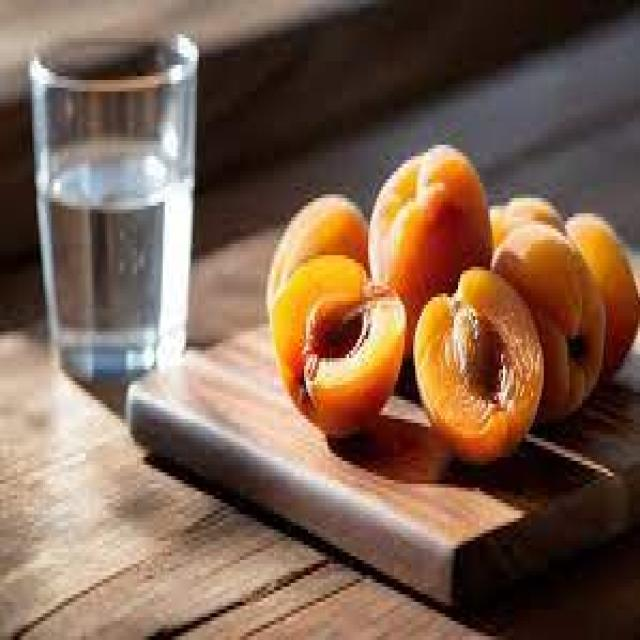Kayisi: (413, 270, 542, 461)
